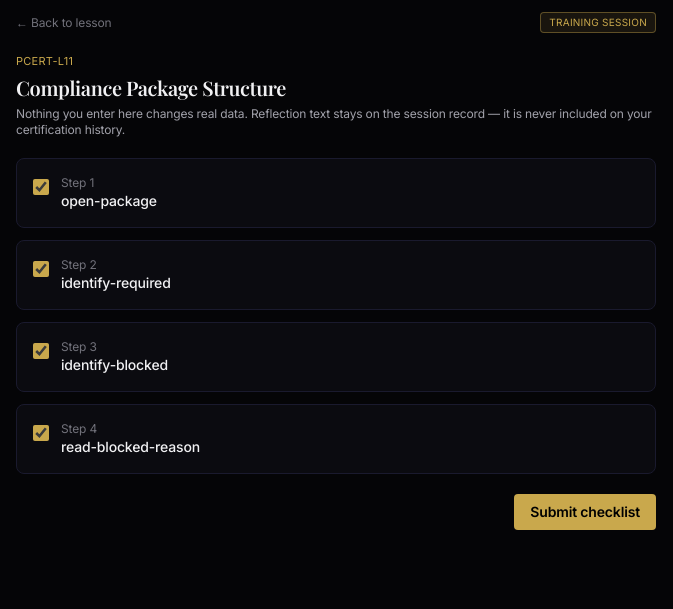
Scenario: ChecklistPageClient — server error map › shows the sub-minimum reflection copy when the server returns session_invalid_state
The width and height of the screenshot is (673, 609).
Click the button "Submit checklist" at (585, 512), box [514,494,656,530]
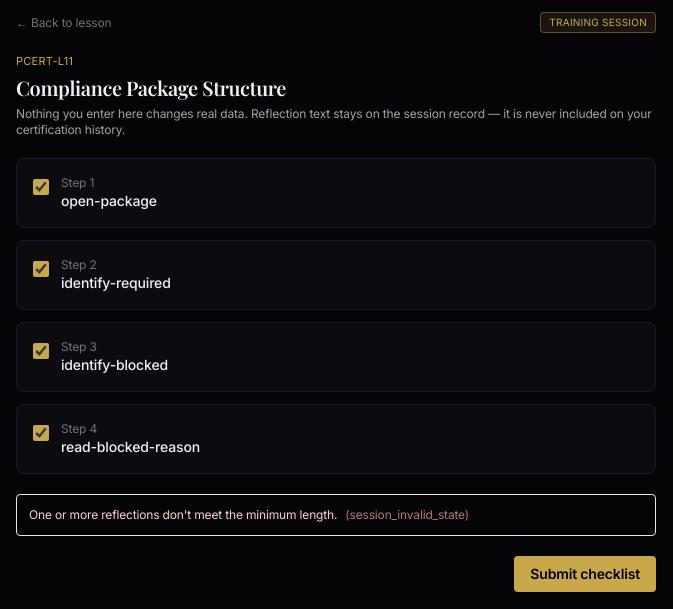
Result: the text "One or more reflections don't meet the minimum length.(session_invalid_state)" is shown at [16,494,656,536]
